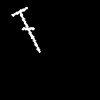double_crochet: (12, 7, 39, 52)
